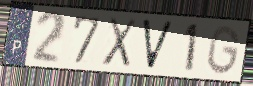1: (181, 22, 200, 74)
2: (31, 9, 68, 66)
7: (71, 14, 103, 65)
G: (206, 23, 242, 77)
V: (140, 17, 176, 73)
X: (100, 16, 139, 70)
